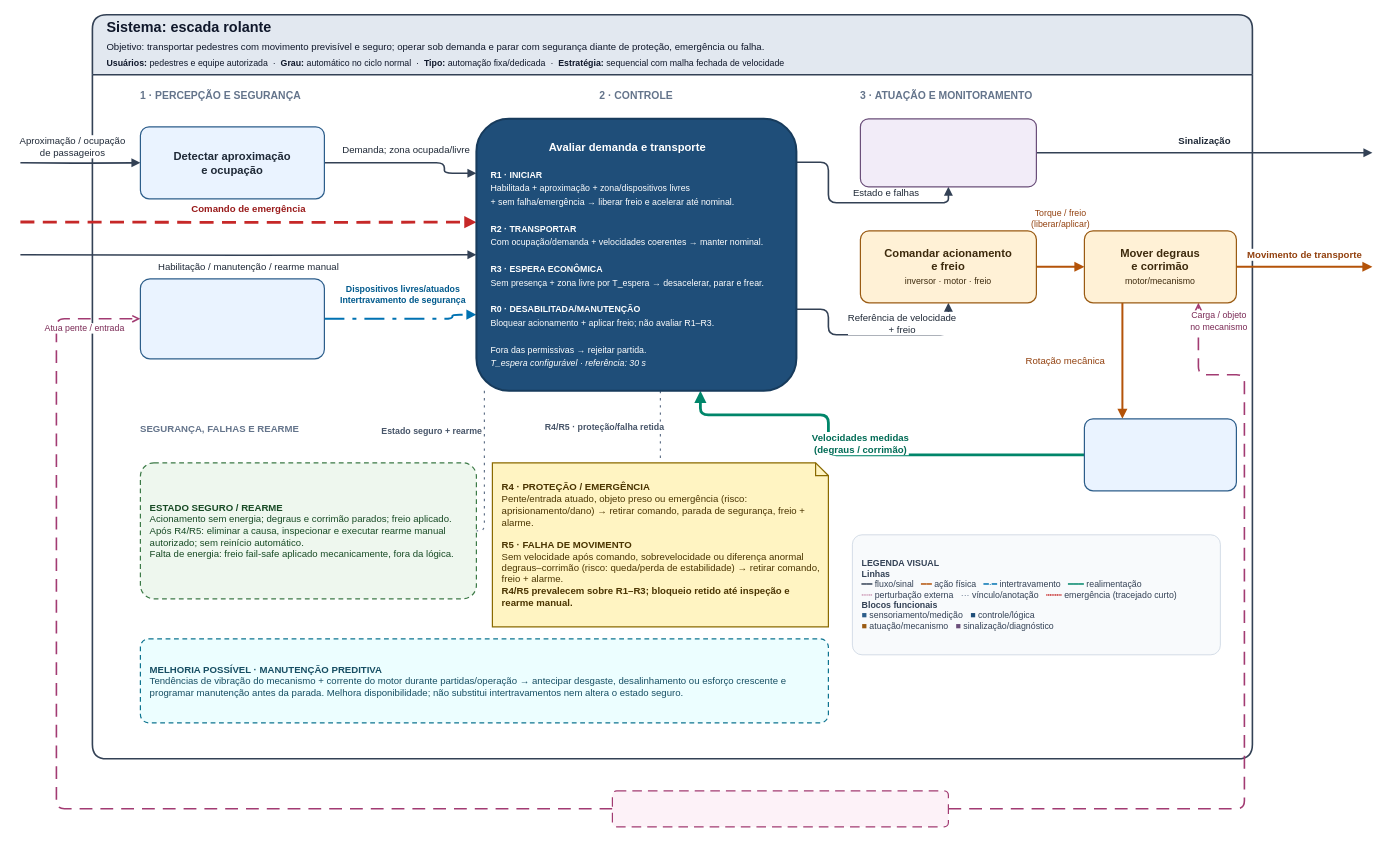
Image size: 1394x841. Some labels were removed from this diagram. Here are the shapes that lost their labels. From the top down, the centre of each, then its label:
point (948, 152): Sinalizar estado e falhas
point (232, 318): Monitorar dispositivos de segurança pente · entrada · circuito
point (1160, 454): Medir velocidades degraus · corrimão
point (780, 808): Perturbação: objeto / carga / fluxo de pessoas (ambiente)
